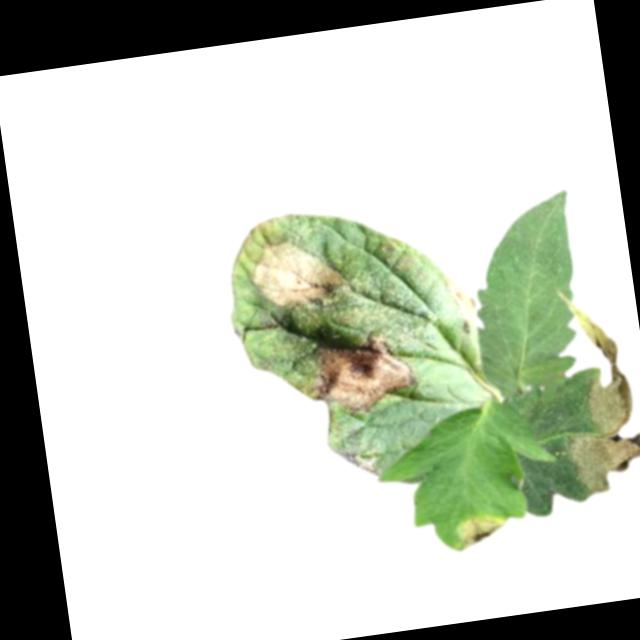Late_blight: (536, 283, 640, 500), (300, 324, 417, 415), (243, 227, 351, 320), (447, 511, 510, 553), (335, 443, 381, 483), (446, 273, 479, 328)
healthy: (458, 187, 595, 400)
